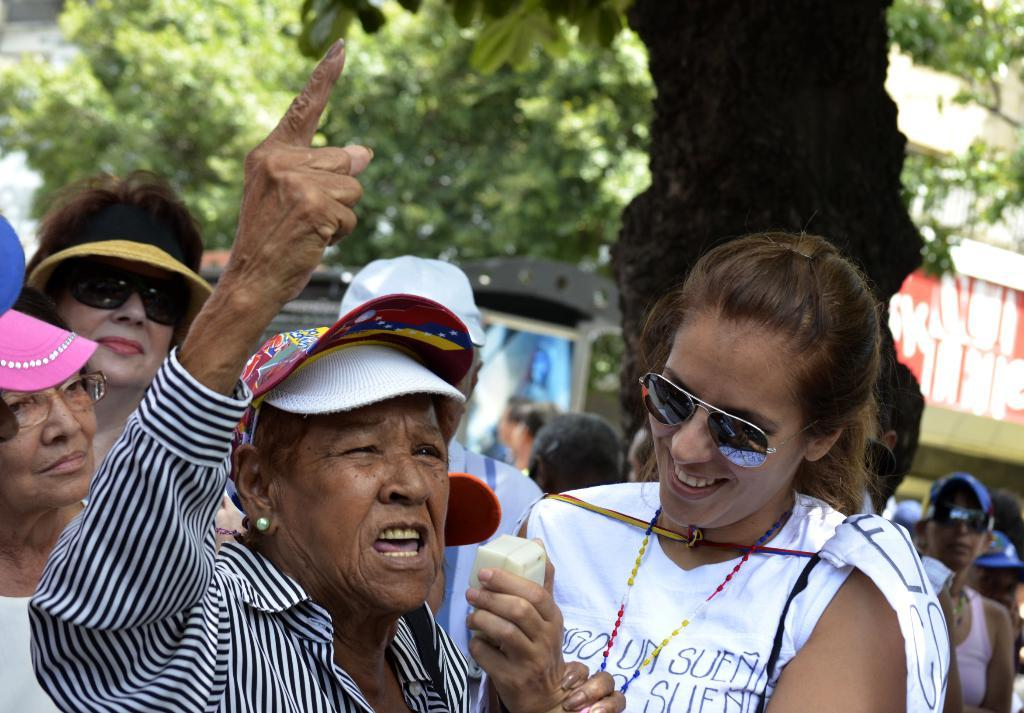Hat: (230, 292, 470, 473), (0, 206, 90, 392), (342, 252, 483, 350), (924, 472, 994, 525), (971, 535, 1023, 575), (891, 498, 922, 531)
